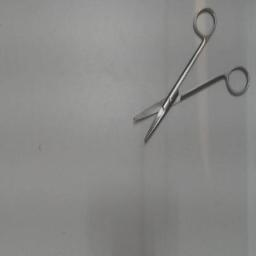Curved Mayo Scissors: (129, 4, 253, 150)
